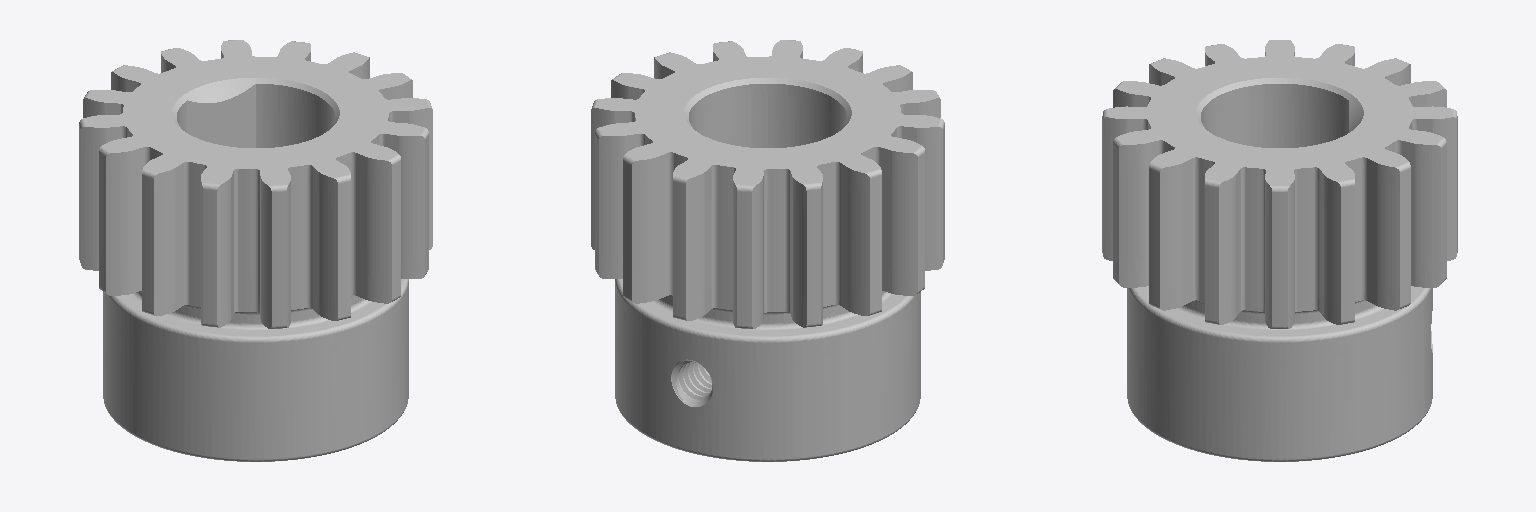
The model's file is gear.obj.
3 renders of one model, left to right at view 1: azimuth 30°, elevation 25°; view 2: azimuth 150°, elevation 25°; view 3: azimuth 270°, elevation 25°, orthographic.
Parts seen in each view (by area): view 1: GEAR-SPUR--16T--DRIVE; view 2: GEAR-SPUR--16T--DRIVE; view 3: GEAR-SPUR--16T--DRIVE.
Boxes of the visible parts, box(x1,y1,x2,y2) form: GEAR-SPUR--16T--DRIVE: box(79, 40, 432, 461); GEAR-SPUR--16T--DRIVE: box(591, 40, 944, 461); GEAR-SPUR--16T--DRIVE: box(1102, 40, 1457, 461).
Bounding box in the file's own units: 1.12 × 1 × 1.12.